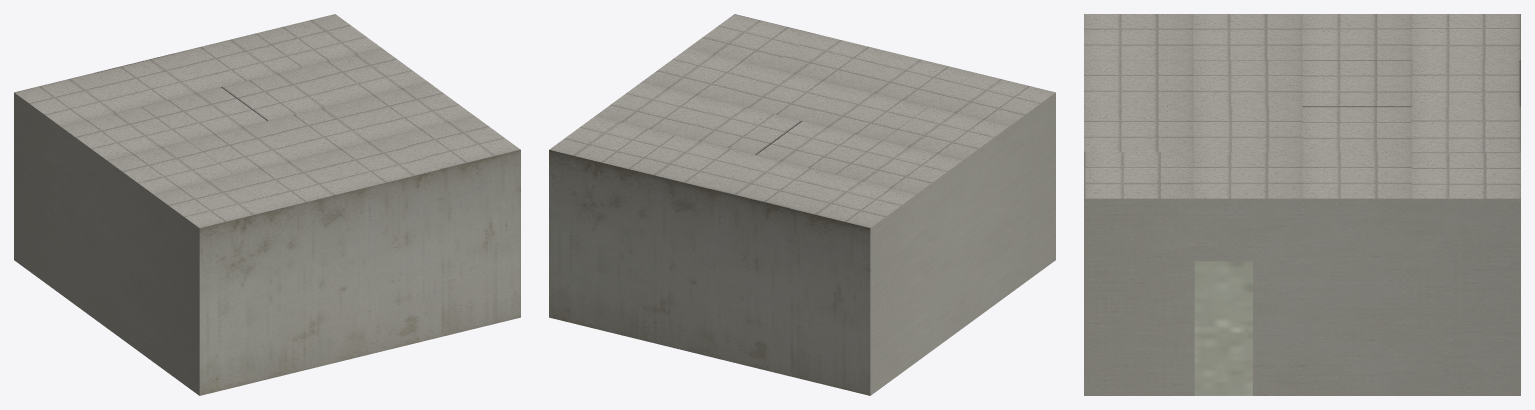
Rendered from HospitalRoomShell.glb.
3 renders of one model, left to right at view 1: azimuth 30°, elevation 25°; view 2: azimuth 150°, elevation 25°; view 3: azimuth 270°, elevation 25°, orthographic. The views are drawn at different scales.
Parts seen in each view (by area): view 1: HospitalWalls; view 2: HospitalWalls; view 3: HospitalWalls.
Boxes of the visible parts, bbox=[...] form: HospitalWalls: bbox=[14, 14, 520, 395]; HospitalWalls: bbox=[549, 14, 1055, 395]; HospitalWalls: bbox=[1084, 14, 1520, 395].
Bounding box in the file's own units: 24.37 × 12.16 × 24.37.
1 material, 1 textured.
